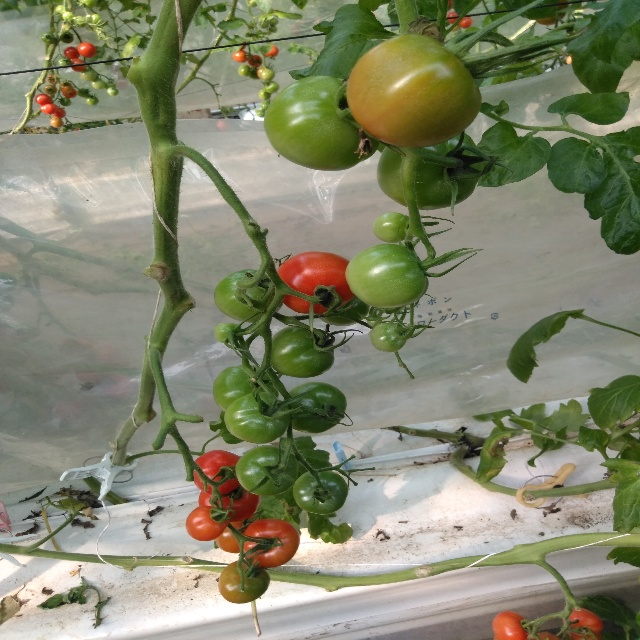l_fully_ripened: (275, 251, 356, 314), (241, 518, 300, 569), (199, 485, 260, 522), (192, 449, 241, 495), (563, 607, 603, 638), (492, 610, 531, 639)
l_green: (264, 75, 380, 171), (376, 133, 483, 210), (345, 244, 429, 309), (214, 269, 283, 323), (224, 392, 293, 443), (271, 324, 334, 378), (284, 382, 347, 434), (235, 445, 299, 496), (214, 364, 280, 412), (292, 469, 348, 515), (318, 296, 369, 326), (371, 212, 411, 243), (370, 322, 407, 353), (212, 323, 243, 343)
l_half_ripened: (345, 33, 482, 149), (218, 558, 271, 604), (186, 505, 229, 541), (213, 520, 252, 553)
